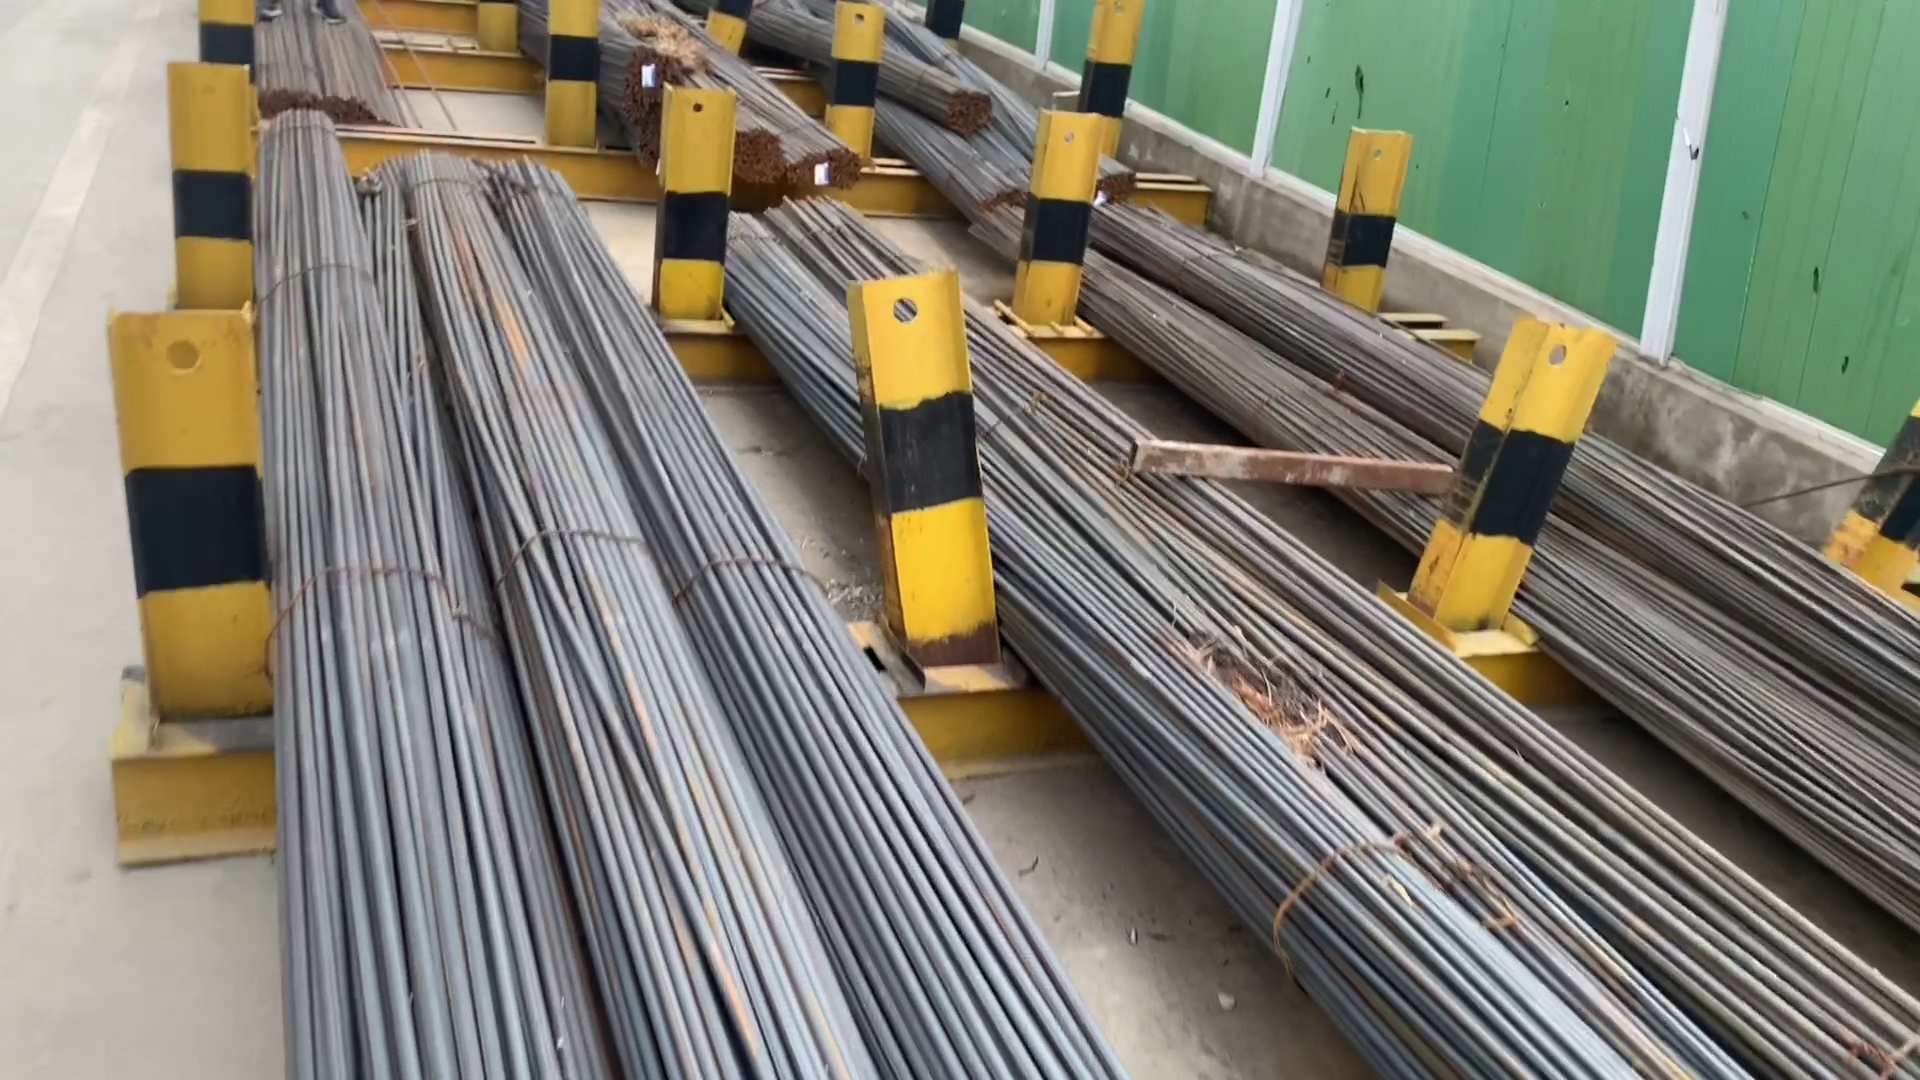rebar: (717, 123, 785, 185), (795, 138, 862, 187), (261, 66, 326, 115), (935, 88, 992, 142), (328, 88, 400, 127)
